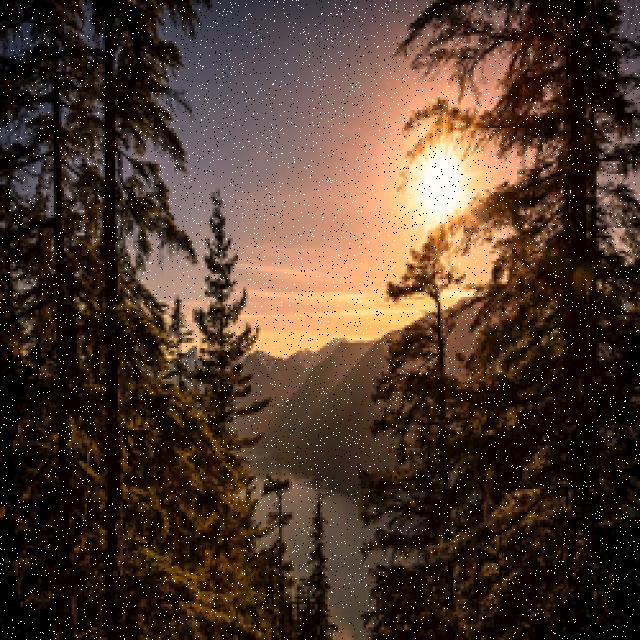light: (405, 131, 483, 245)
